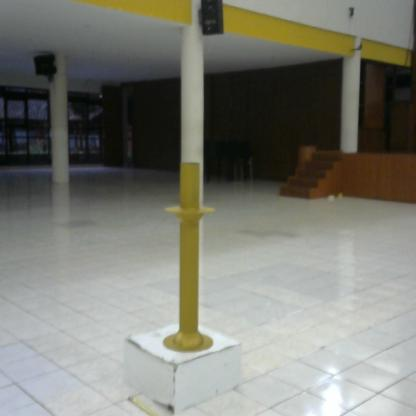pole: (156, 152, 223, 359)
